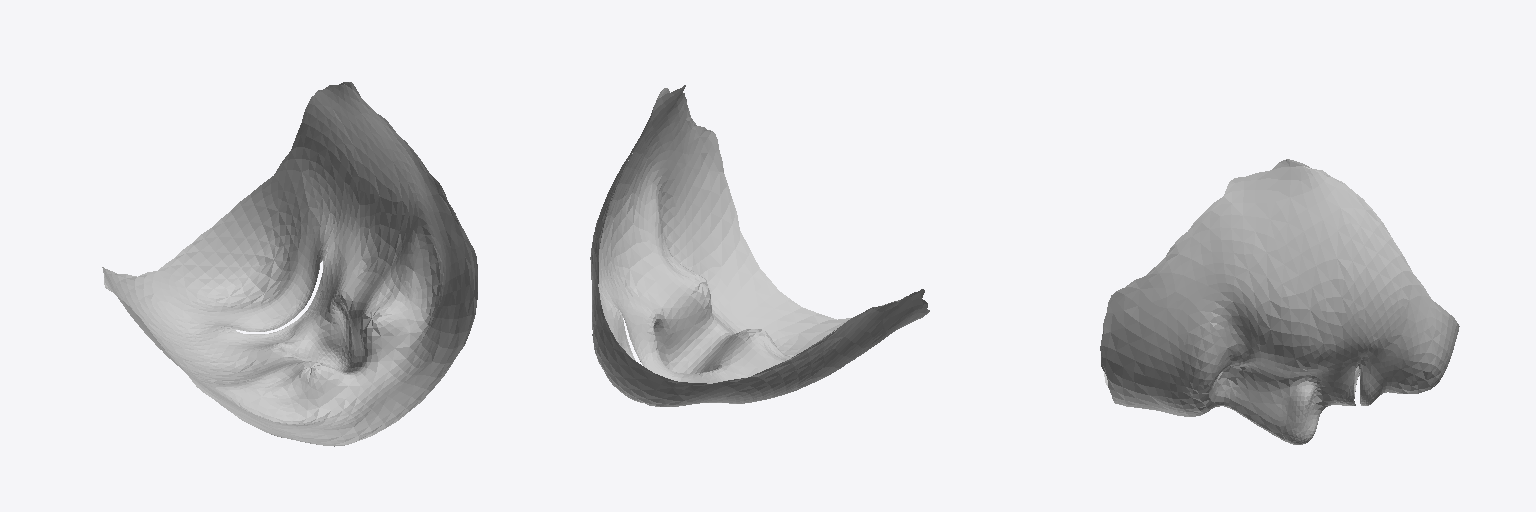
File: face_gab_sfm119.obj
3 views of the same model, side by side, from view 1: azimuth 30°, elevation 25°; view 2: azimuth 150°, elevation 25°; view 3: azimuth 270°, elevation 25° (orthographic).
Bounding box in the file's own units: 165 × 160 × 178.